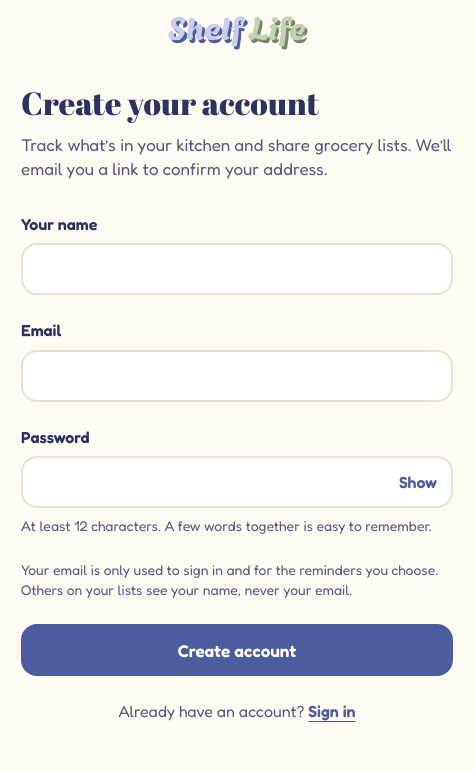
Test: Milestone 9b Create account › checks the fields inline, then shows "Check your email"
The width and height of the screenshot is (475, 770).
Click the button "Create account" at (237, 650), box [21,624,453,676]
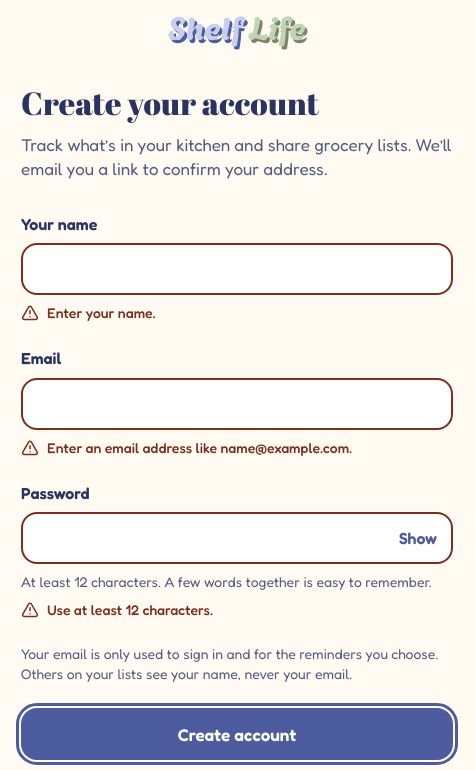
expect the password field labelled "Password" is marked as invalid: met, box [21,512,453,564]
Type "Maya Rao" into the field labelled "Your name" at (237, 269), box [21,243,453,295]
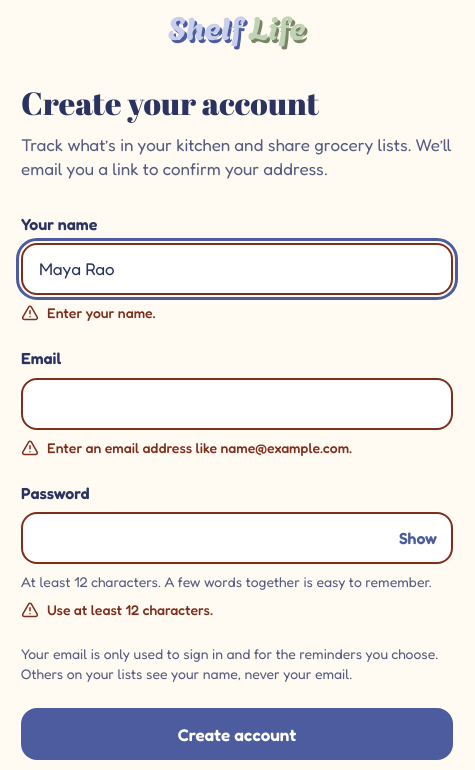
Type "maya@example.com" into the field labelled "Email" at (237, 404), box [21,378,453,430]
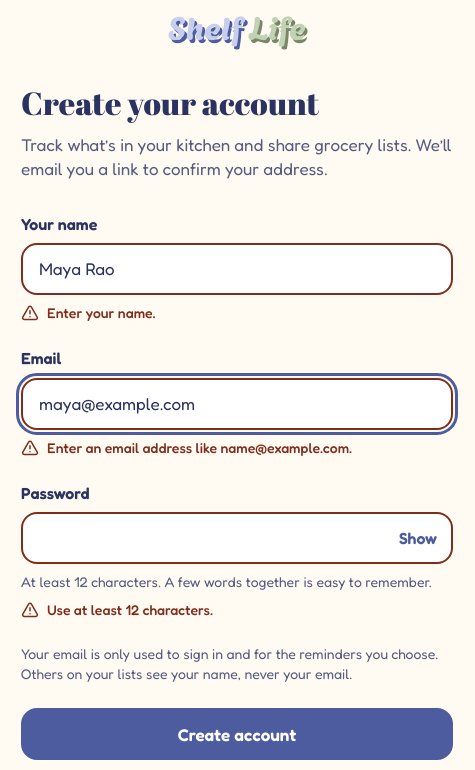
Type "correct horse battery" into the password field labelled "Password" at (237, 538), box [21,512,453,564]
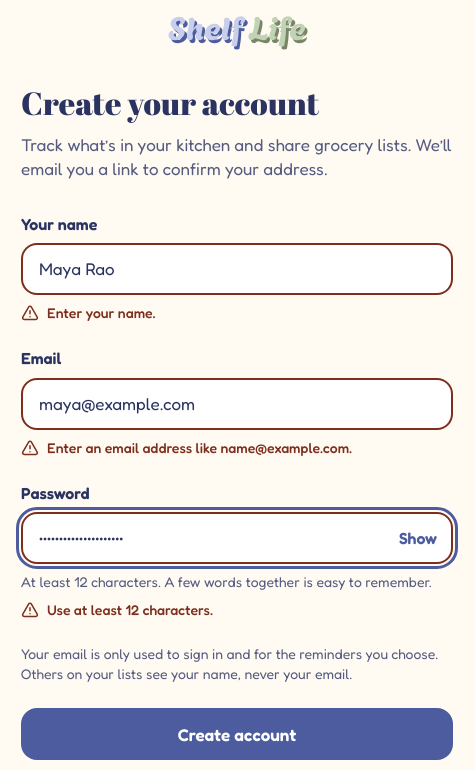
Click the button "Create account" at (237, 734), box [21,708,453,760]
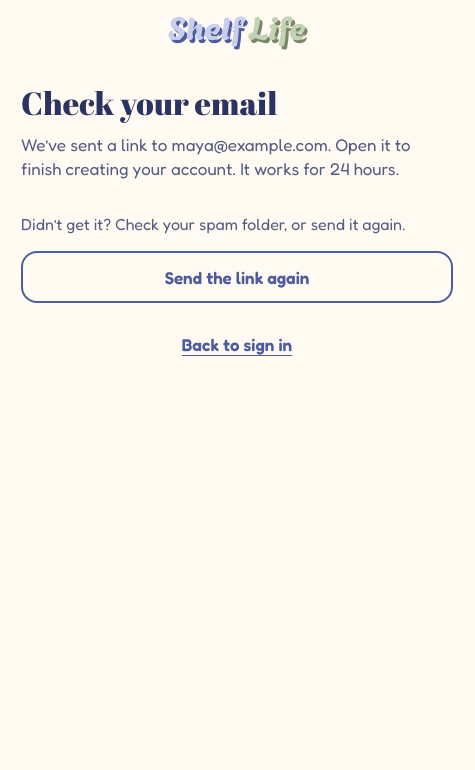
expect the heading "Check your email" is shown: met, box [21,81,277,124]
expect the text "We’ve sent a link to maya@example.com" is shown: met, box [21,134,411,179]
